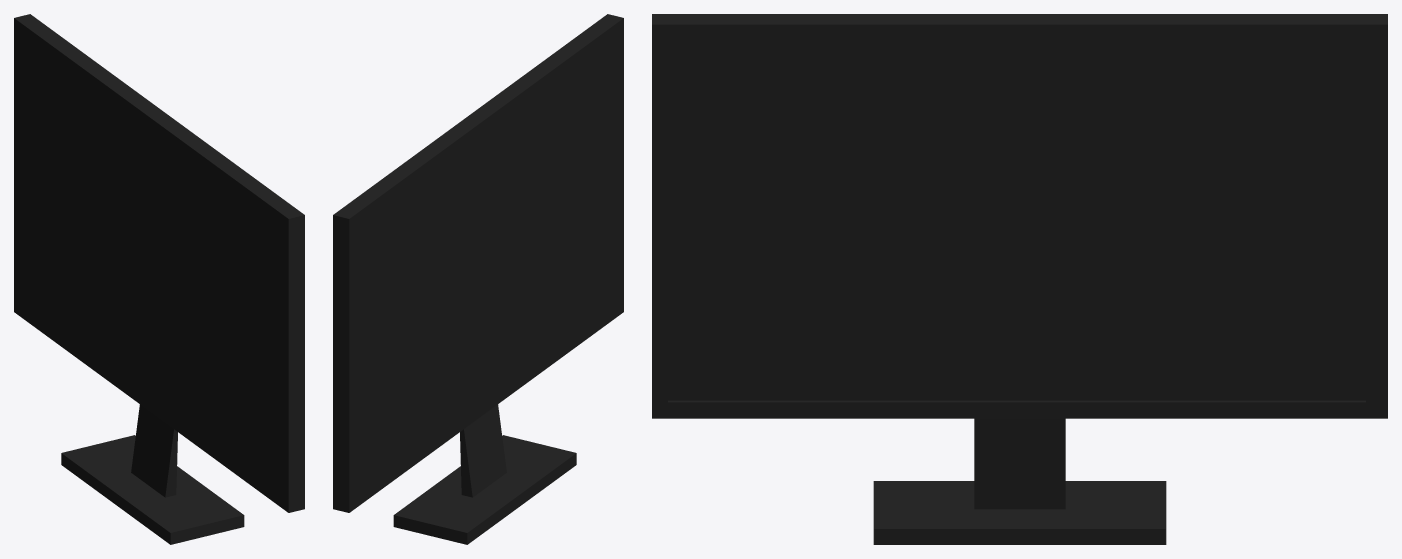
Rendered from monitor.glb.
3 renders of one model, left to right at view 1: azimuth 30°, elevation 25°; view 2: azimuth 150°, elevation 25°; view 3: azimuth 270°, elevation 25°, orthographic. The views are drawn at different scales.
Parts seen in each view (by area): view 1: Cube; view 2: Cube; view 3: Cube.
Part boxes in pixels (x1,y1,x2,y2): Cube: (14, 14, 304, 544); Cube: (333, 14, 623, 544); Cube: (652, 14, 1387, 544).
Size of the model in its own units: 0.5238 by 2.57 by 3.39.
Materials: 1 (1 with a texture image).
